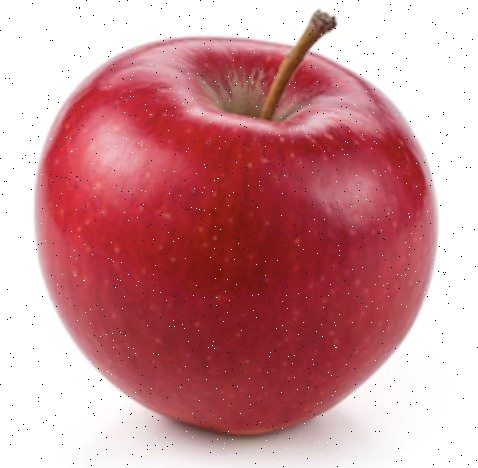fresh_apple: (35, 36, 439, 440)
